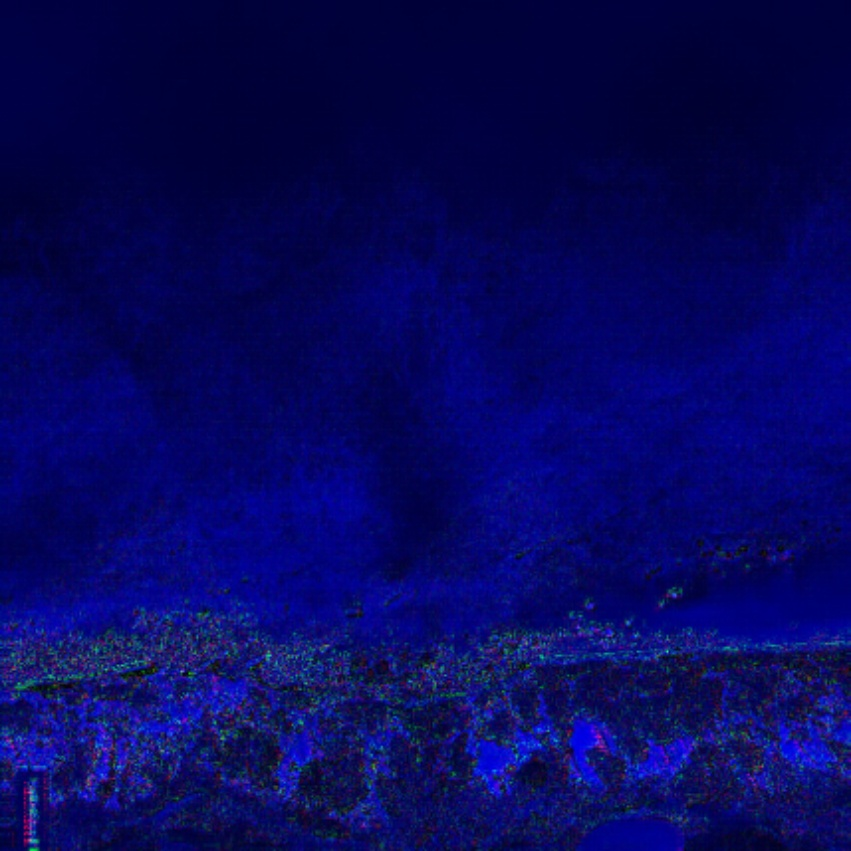rip_current: (292, 201, 515, 577)
